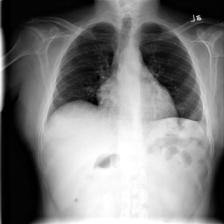normal: (41, 17, 208, 130)
